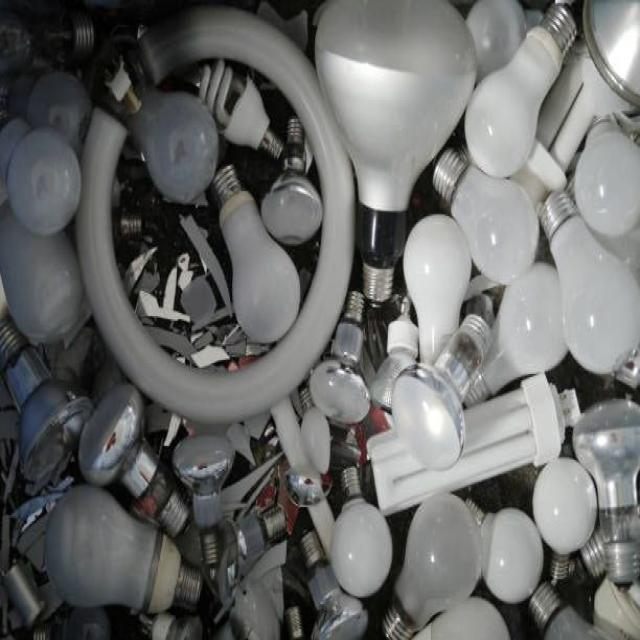electronic: (0, 0, 638, 637), (313, 0, 477, 213), (211, 162, 300, 342), (390, 362, 465, 469)
